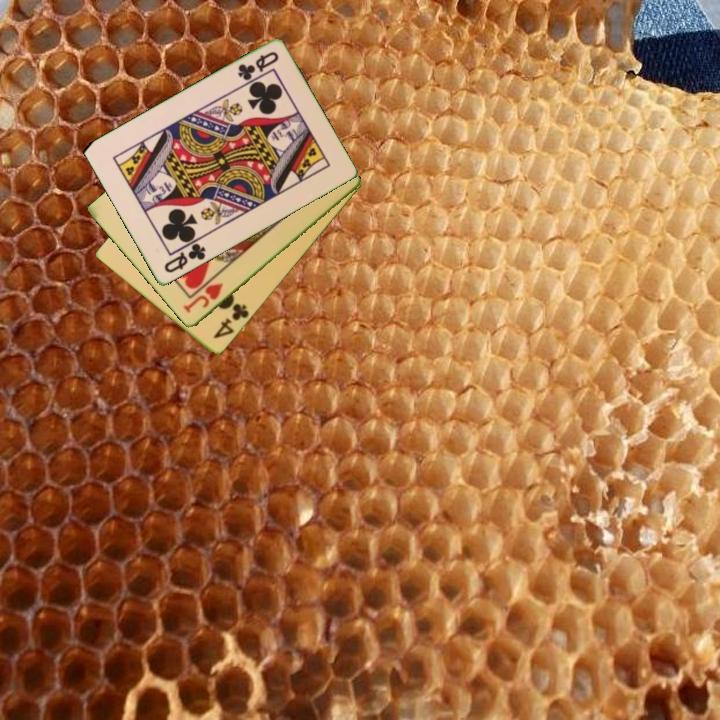4c: (210, 298, 252, 342)
Jh: (180, 280, 226, 316)
Qc: (160, 240, 209, 276), (234, 48, 282, 84)
